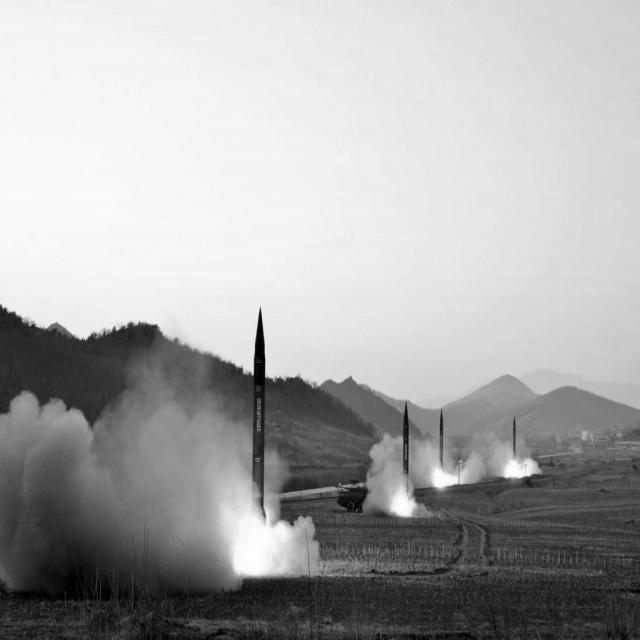missile: (247, 304, 269, 517)
